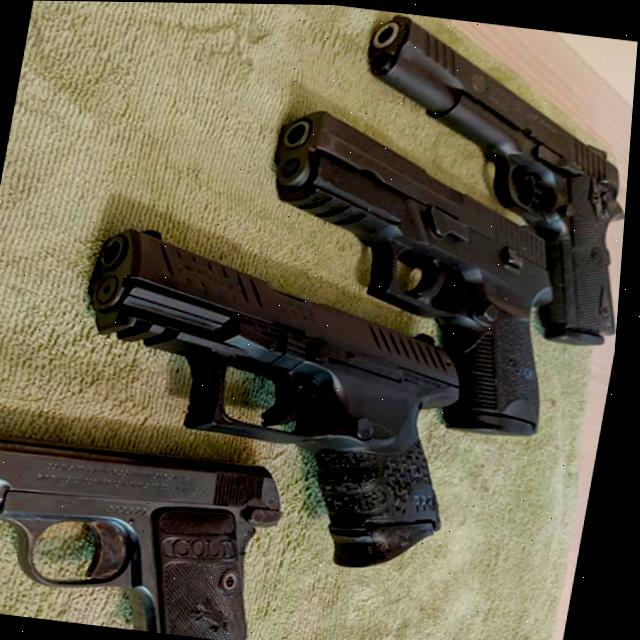pistol: (46, 219, 501, 580), (230, 101, 589, 441), (318, 9, 640, 348), (0, 423, 303, 640)
